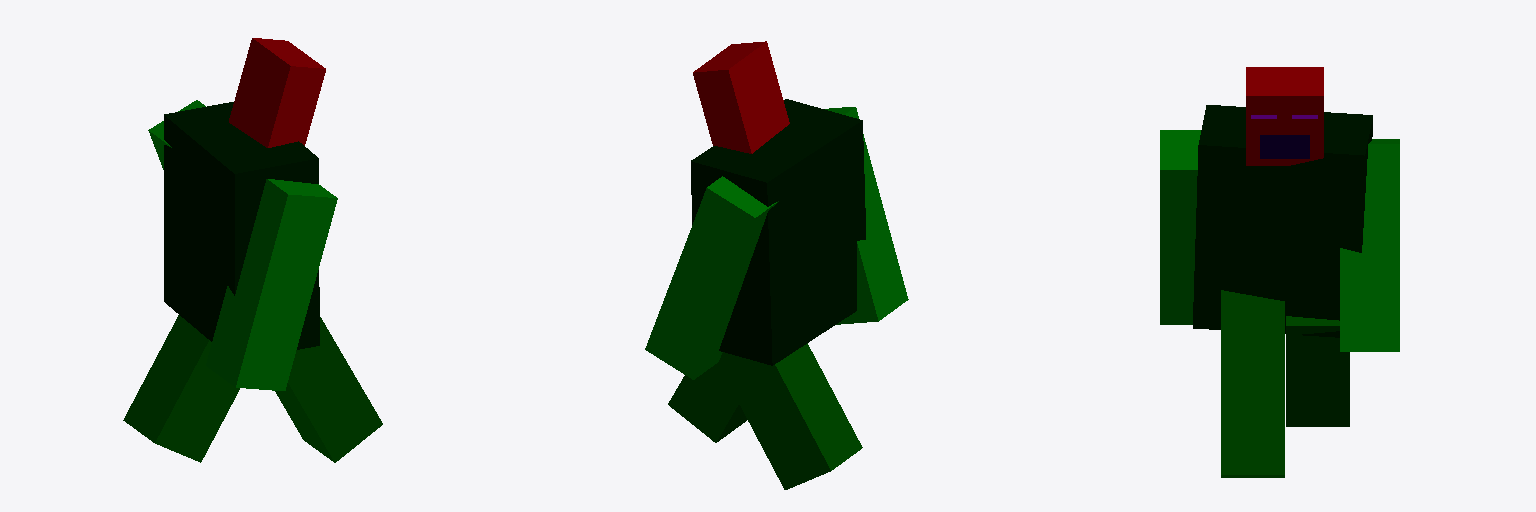
Rendered from walk_000020.obj.
The picture shows the model from 3 angles: view 1: azimuth 30°, elevation 25°; view 2: azimuth 150°, elevation 25°; view 3: azimuth 270°, elevation 25°; orthographic projection.
Visible parts, largest first — view 1: Cube, leg.002_Cube.006, leg_Cube.001, leg.001_Cube.007, Cube.001_Cube.003, leg.003_Cube.002; view 2: Cube, leg.003_Cube.002, leg_Cube.001, Cube.001_Cube.003, leg.002_Cube.006, leg.001_Cube.007; view 3: Cube, leg.001_Cube.007, leg.003_Cube.002, leg.002_Cube.006, leg_Cube.001, Cube.001_Cube.003, Plane.002.
Part boxes in pixels (x1,y1,x2,y2): Cube: (164, 102, 319, 349); leg.002_Cube.006: (206, 179, 337, 390); leg_Cube.001: (123, 315, 239, 462); leg.001_Cube.007: (275, 317, 382, 462); Cube.001_Cube.003: (229, 38, 325, 147); leg.003_Cube.002: (148, 100, 205, 169); Cube: (691, 99, 865, 365); leg.003_Cube.002: (645, 176, 778, 379); leg_Cube.001: (718, 343, 862, 489); Cube.001_Cube.003: (693, 41, 789, 153); leg.002_Cube.006: (825, 107, 908, 324); leg.001_Cube.007: (668, 363, 746, 442); Cube: (1193, 105, 1372, 337); leg.001_Cube.007: (1221, 290, 1284, 477); leg.003_Cube.002: (1340, 139, 1399, 351); leg.002_Cube.006: (1160, 130, 1200, 324); leg_Cube.001: (1286, 316, 1349, 426); Cube.001_Cube.003: (1246, 67, 1323, 165); Plane.002: (1260, 135, 1309, 158).
Bounding box in the file's own units: 3.27 × 6.3 × 3.47.